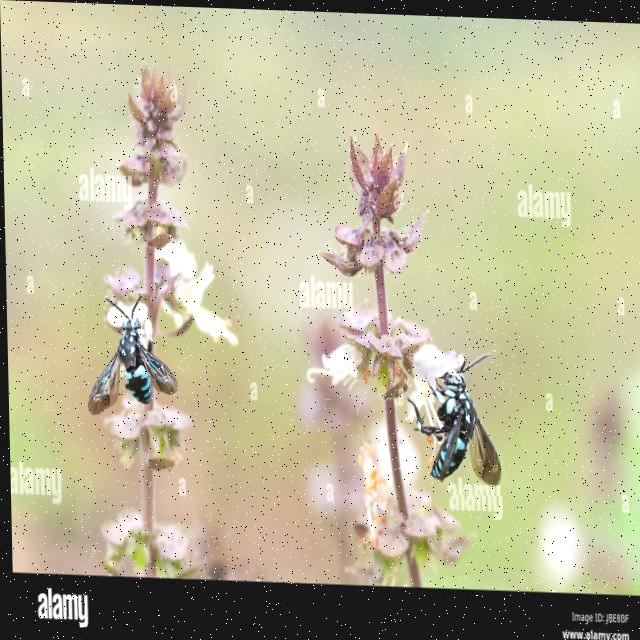Thyreus: (401, 349, 508, 493), (81, 292, 182, 435)
